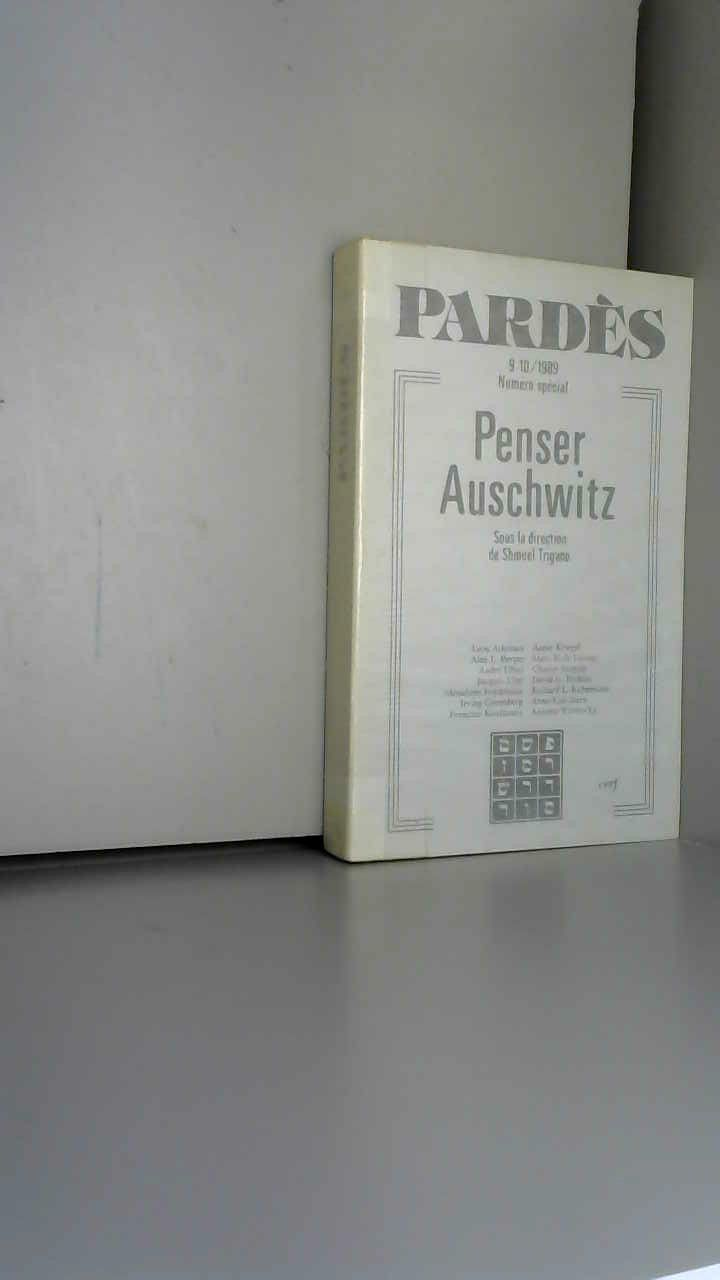book: (320, 220, 718, 894)
